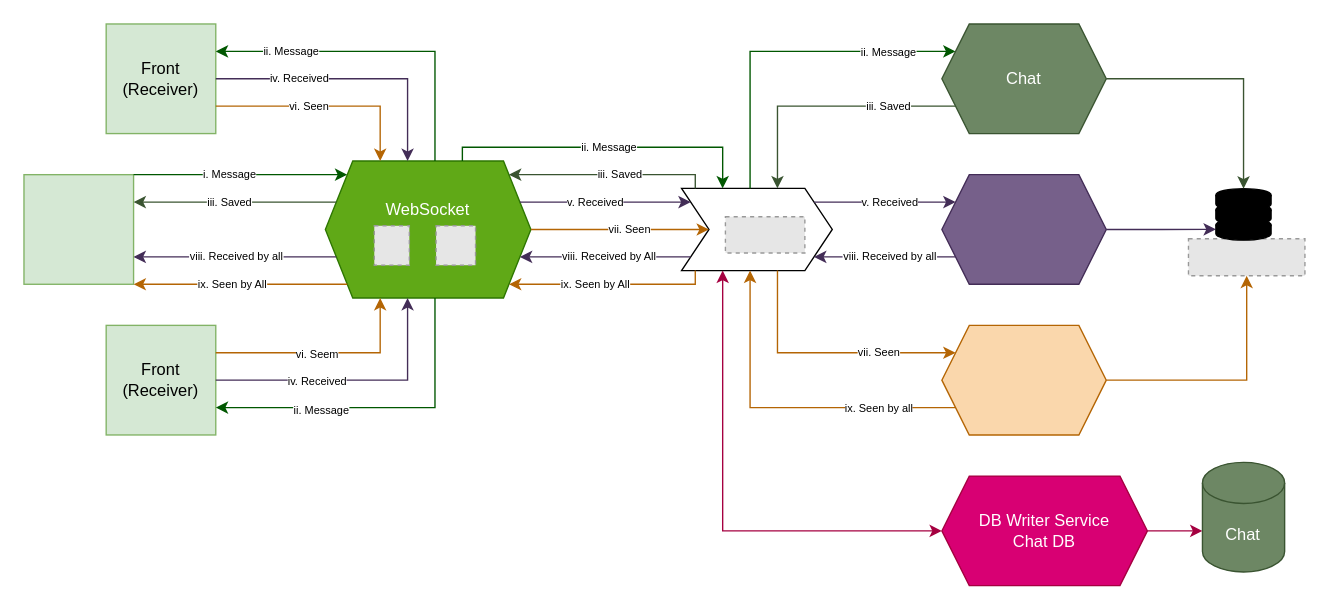
Some shapes in this 1329 by 610 pixel diagram are drawn without their labels. Grey dashed boxes stand in for pictures. Each missing label, with the centre of its shape:
"Front ( Sender )" goes at point (78, 228).
"Message Recived" goes at point (1023, 228).
"Message Seen" goes at point (1023, 379).
